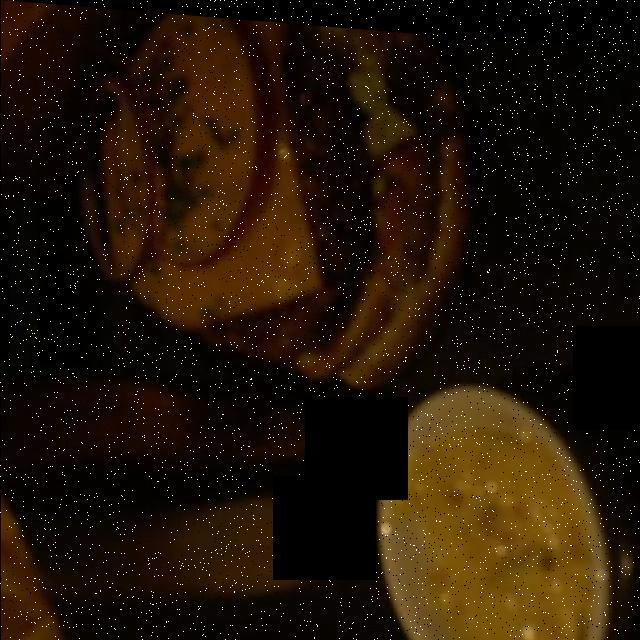hamburger: (93, 17, 467, 382)
